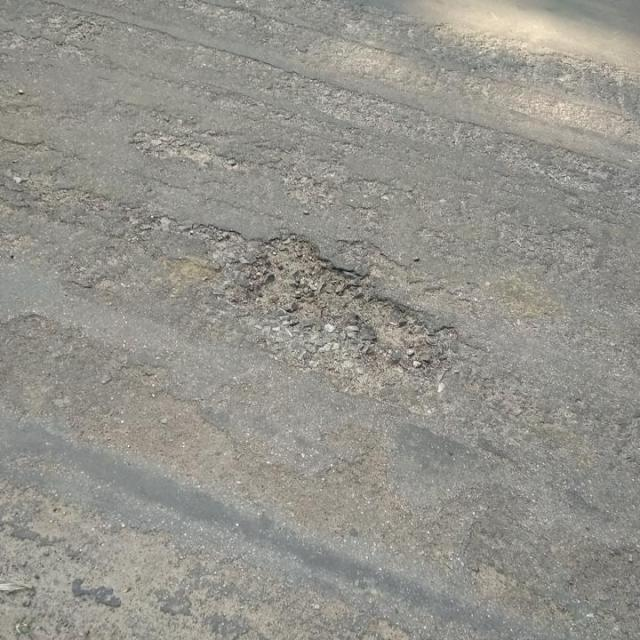Pothole: (241, 227, 461, 378), (133, 129, 244, 172)
